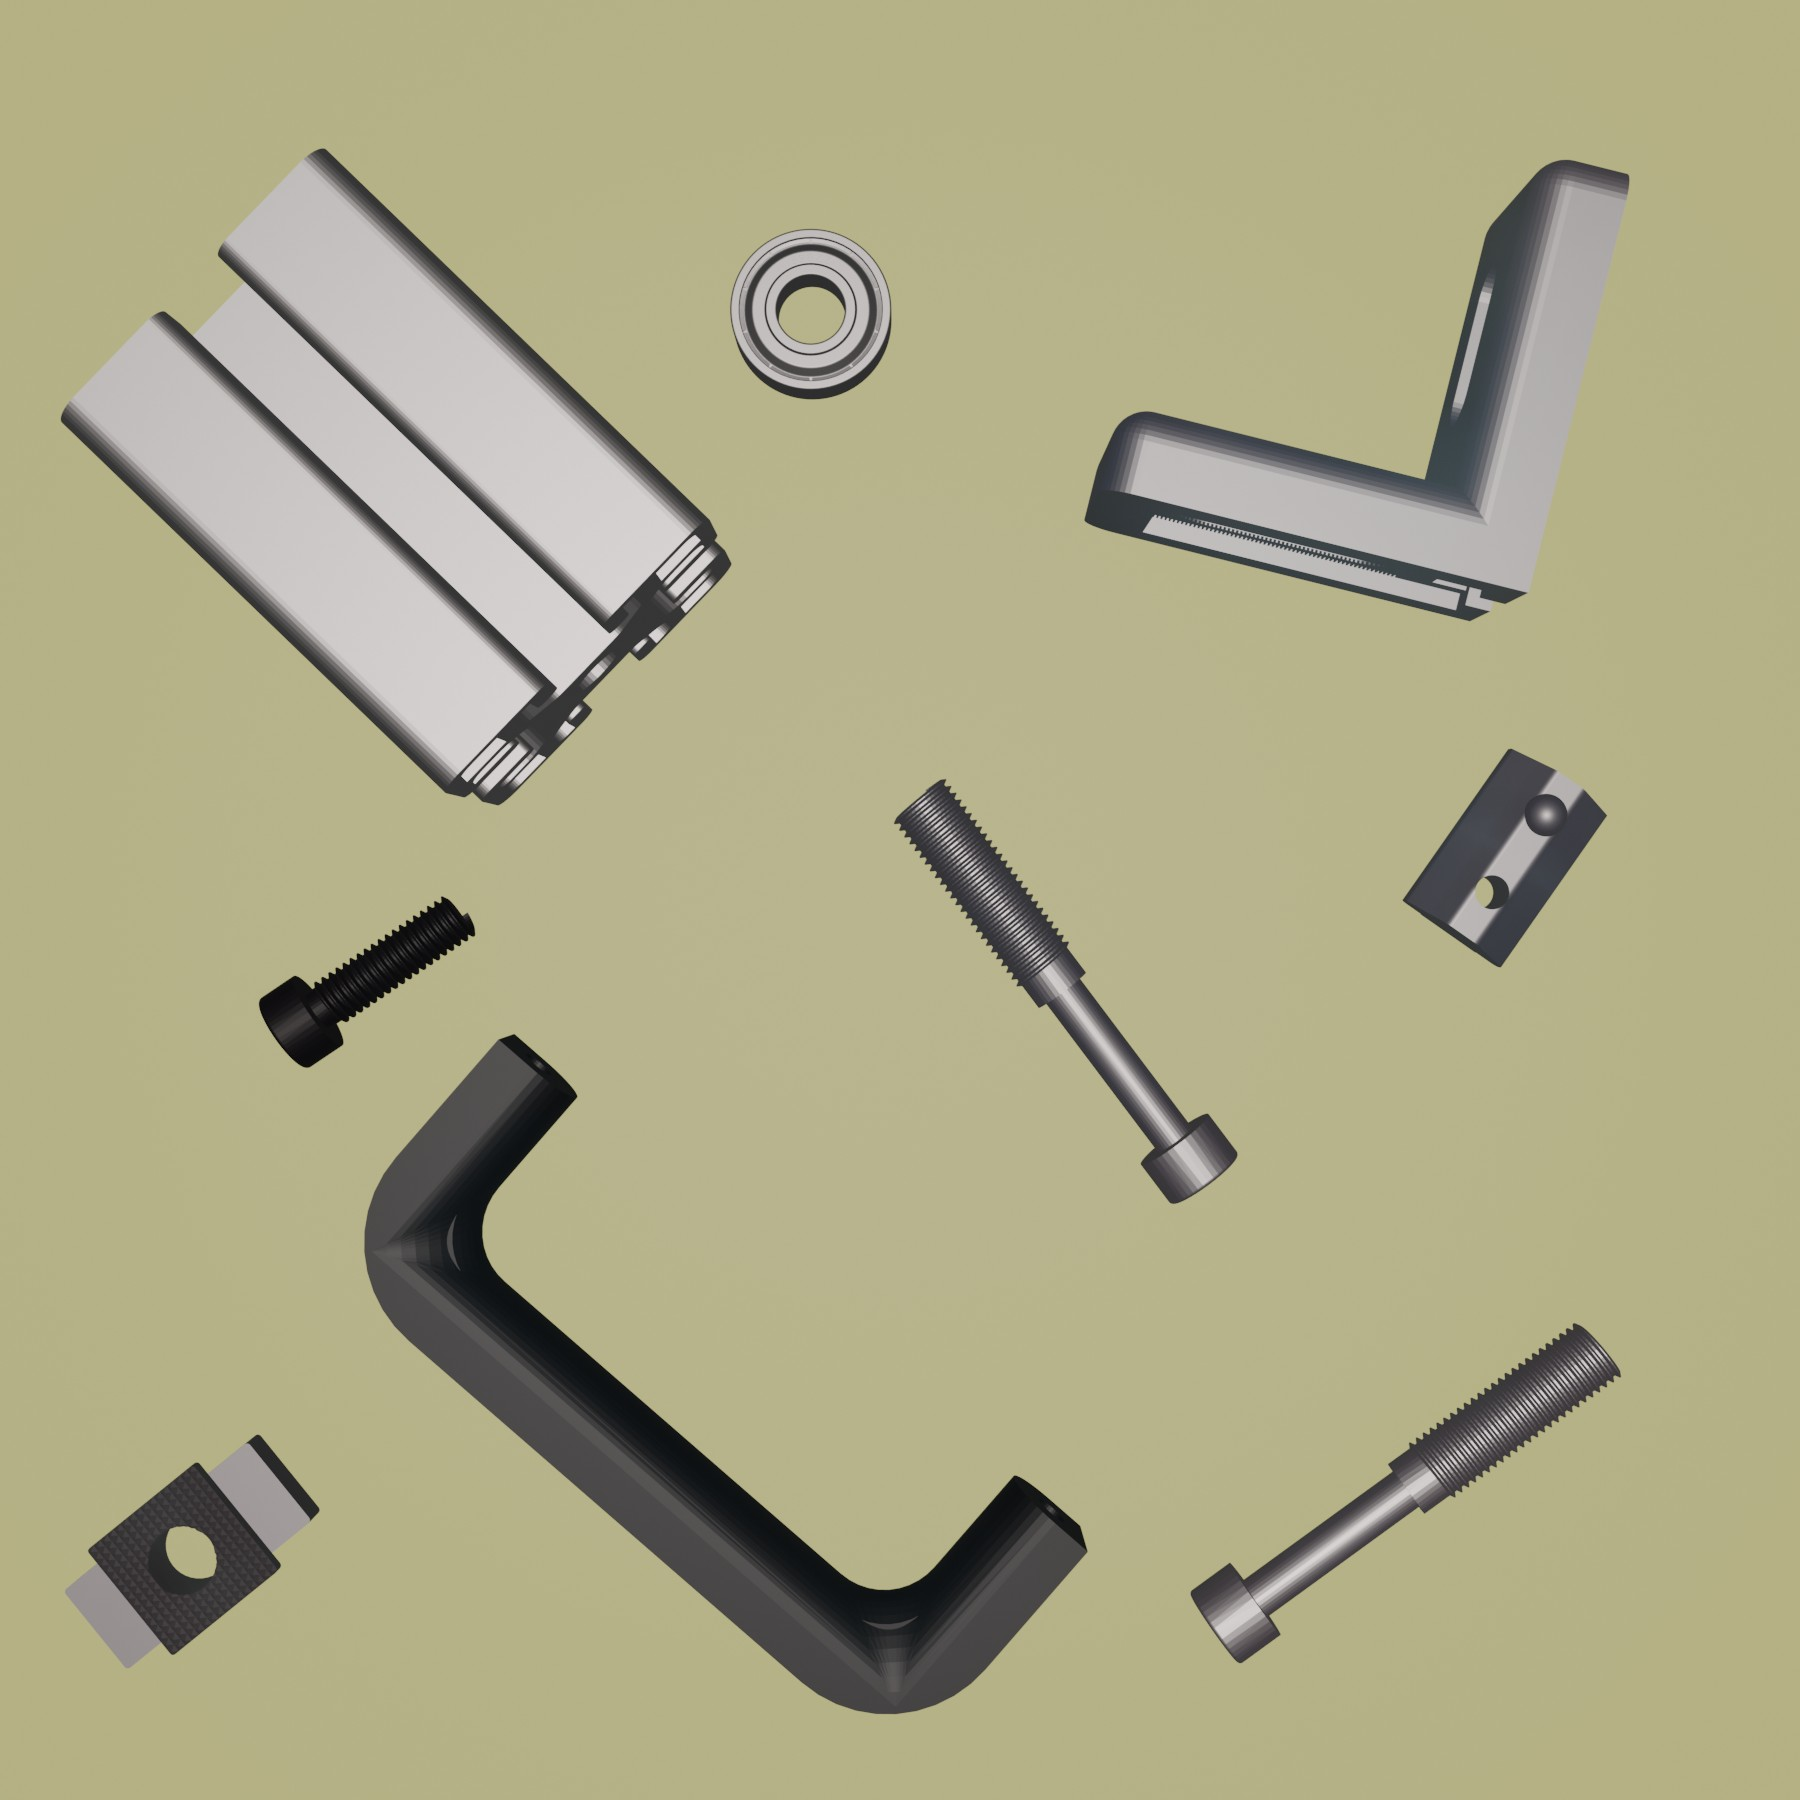Aluminium Extension: (58, 147, 734, 809)
Ball Bearing: (725, 226, 893, 401)
Multiwinkel: (1083, 158, 1635, 623)
Pull Handle: (363, 1034, 1088, 1714)
Shoulder Socket Head Cap Screw: (1188, 1320, 1624, 1666), (892, 776, 1238, 1205)
Socket Head Cap Screw: (259, 893, 476, 1070)
T Nut Square: (61, 1434, 321, 1668)
T Spring Nut: (1401, 745, 1609, 969)
